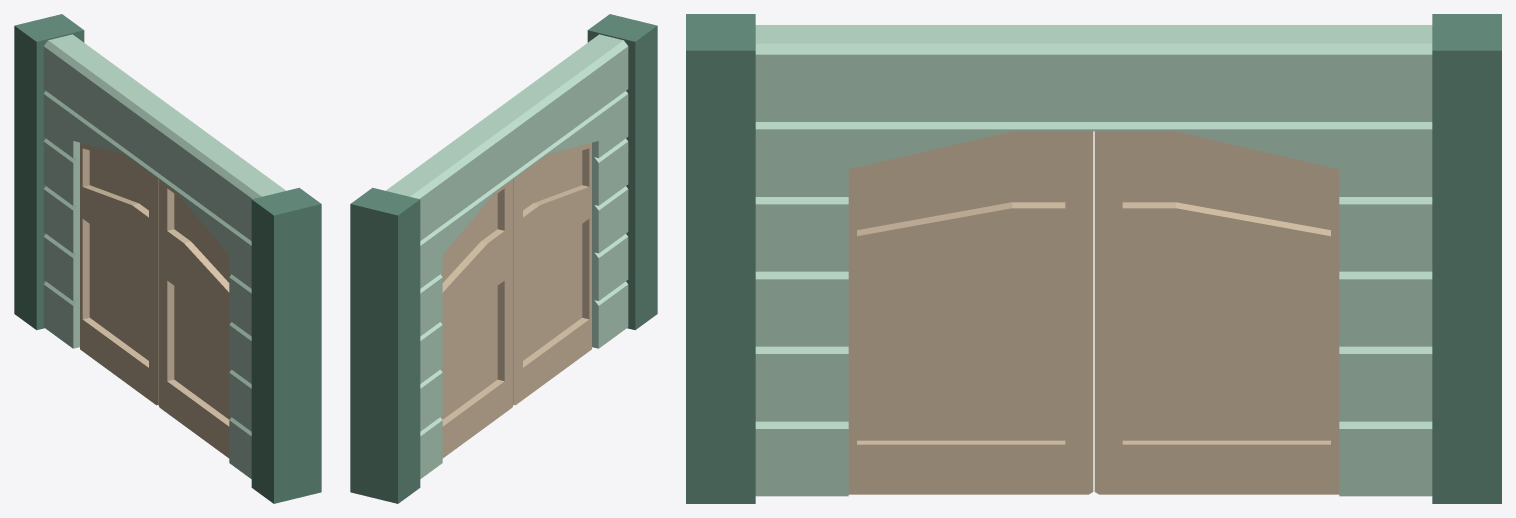
File: Garage01_house3.fbx
The picture shows the model from 3 angles, left to right: view 1: azimuth 30°, elevation 25°; view 2: azimuth 150°, elevation 25°; view 3: azimuth 270°, elevation 25°; orthographic projection. The views are drawn at different scales.
Visible parts, largest first — view 1: Garage01_house03; view 2: Garage01_house03; view 3: Garage01_house03.
Boxes of the visible parts, x1,y1,x2,y2 form: Garage01_house03: [14, 14, 321, 503]; Garage01_house03: [350, 14, 657, 503]; Garage01_house03: [686, 14, 1501, 503].
Bounding box in the file's own units: 57.69 × 335 × 544.
